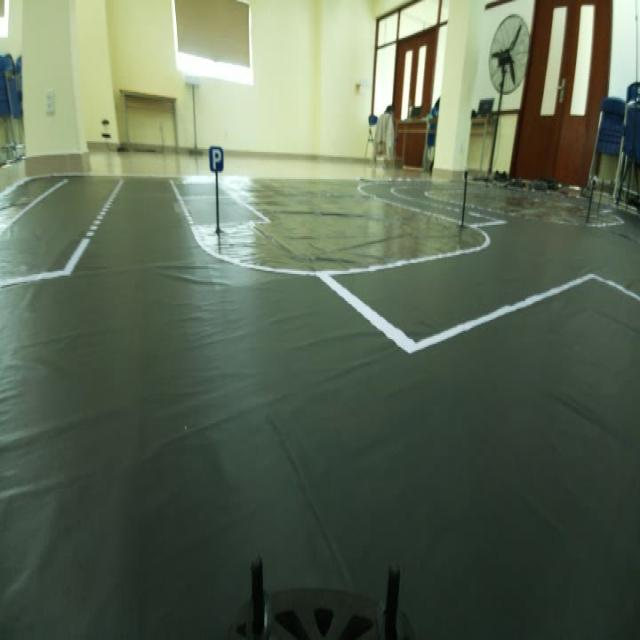parking: (203, 134, 226, 175)
